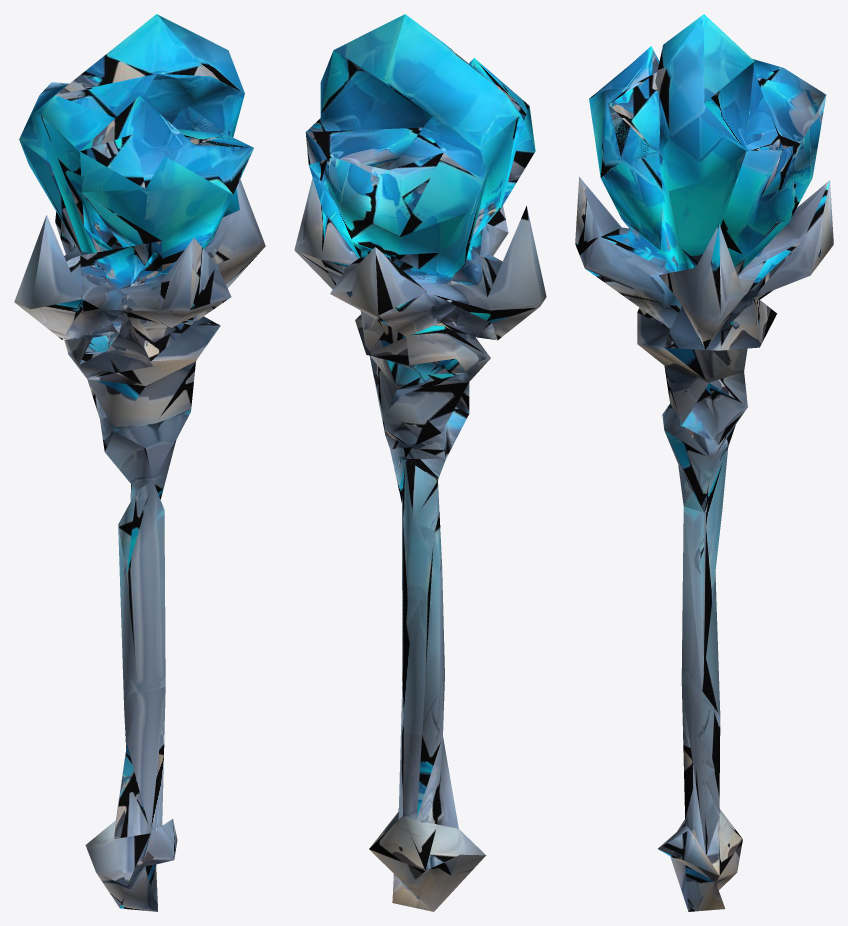
File: frostwand.glb
3 renders of one model, left to right at view 1: azimuth 30°, elevation 25°; view 2: azimuth 150°, elevation 25°; view 3: azimuth 270°, elevation 25°, orthographic.
Parts seen in each view (by area): view 1: item; view 2: item; view 3: item.
Boxes of the visible parts, left/top/right/bottom form: item: left=14, top=14, right=265, bottom=911; item: left=294, top=14, right=546, bottom=911; item: left=575, top=14, right=833, bottom=911.
Bounding box in the file's own units: 0.1438 × 0.4999 × 0.1301.
1 material, 1 textured.
